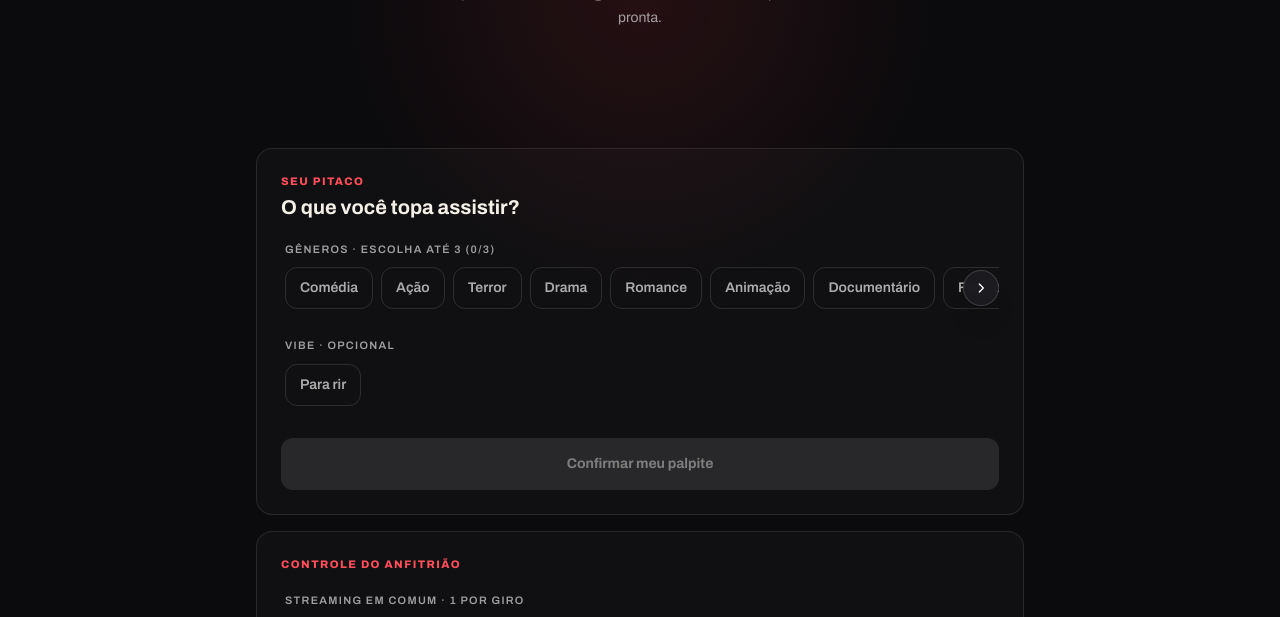
Test case: SocialRoomPage › lets the current participant submit an independent guess before the host can spin
(page scrolled)
expect the heading "O que você topa assistir?" is shown: met, box left=281, top=196, right=520, bottom=218
Click the button "Comédia" at (329, 288), box left=285, top=267, right=373, bottom=309
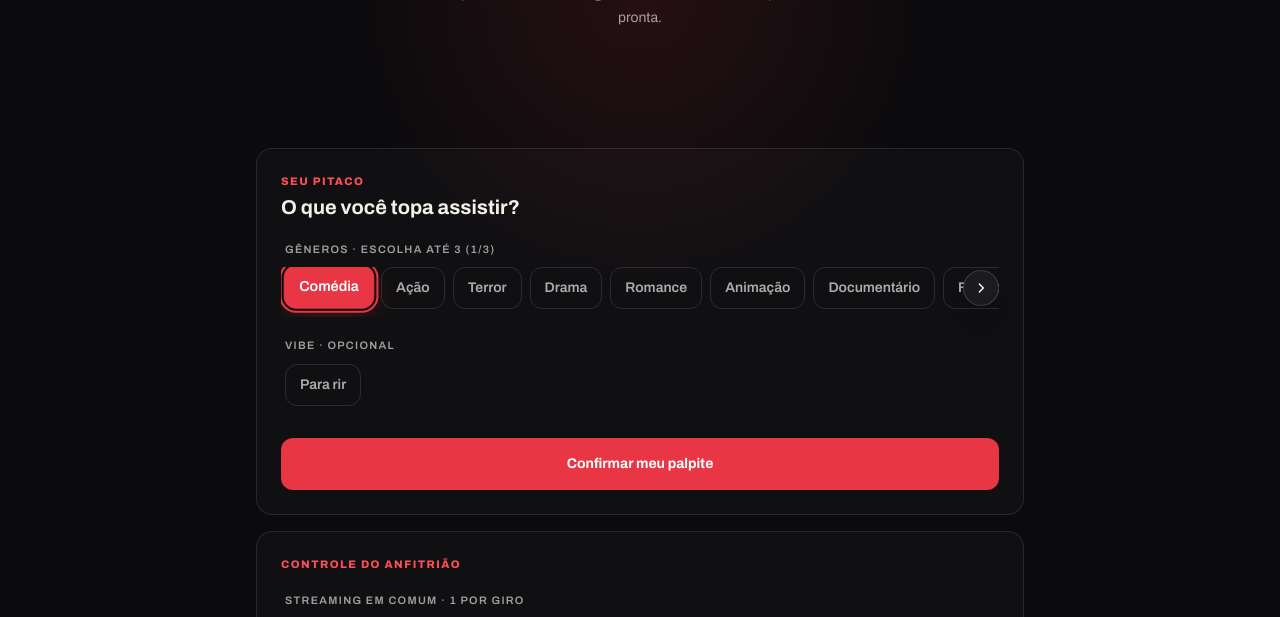
Click the button "Confirmar meu palpite" at (640, 464), box left=281, top=438, right=999, bottom=490
(page scrolled)
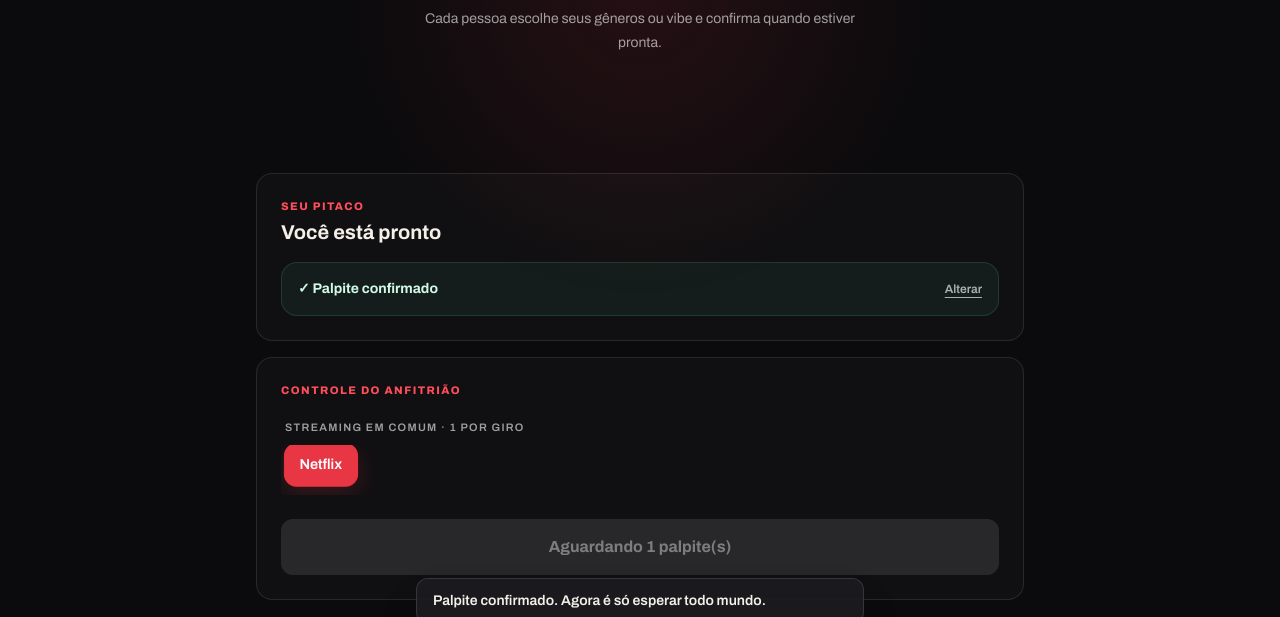
expect the button "Aguardando 1 palpite(s)" is disabled: met, box left=281, top=519, right=999, bottom=575
expect the text "✓ Palpite confirmado" is shown: met, box left=298, top=279, right=438, bottom=299
